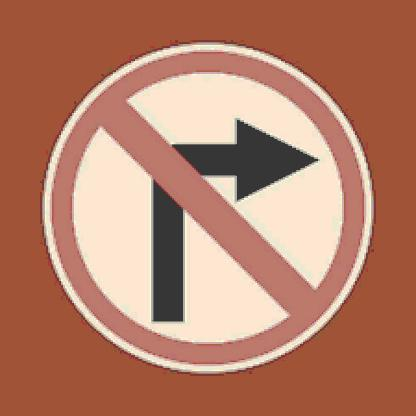No right turn: (45, 42, 372, 373)
